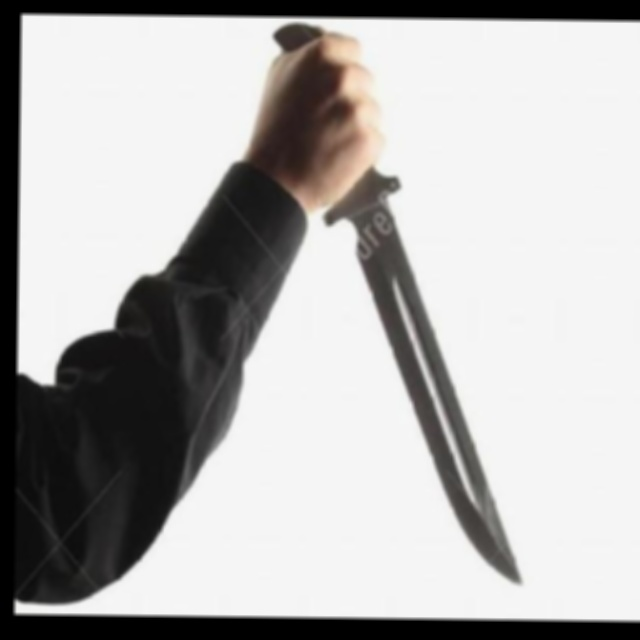Sharp-Object: (270, 22, 529, 588)
